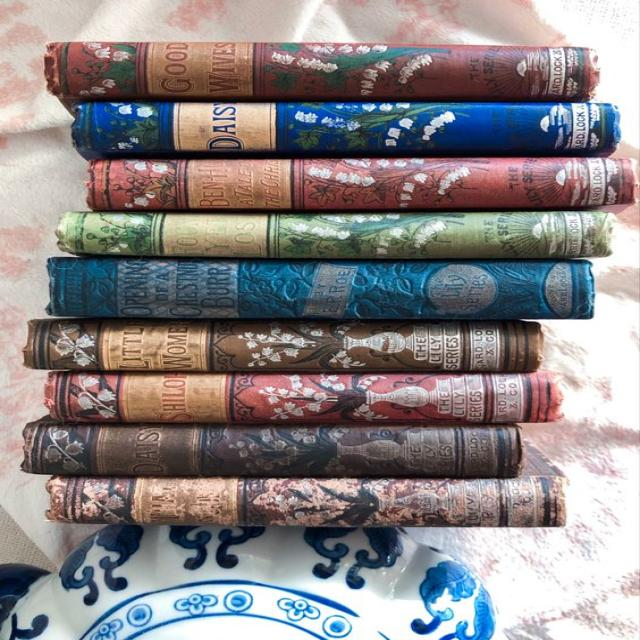book: (46, 260, 594, 316), (48, 42, 599, 97), (72, 102, 618, 155), (48, 373, 560, 423), (27, 323, 539, 372), (48, 477, 560, 526), (91, 161, 634, 207), (59, 212, 608, 256), (27, 427, 519, 476)
